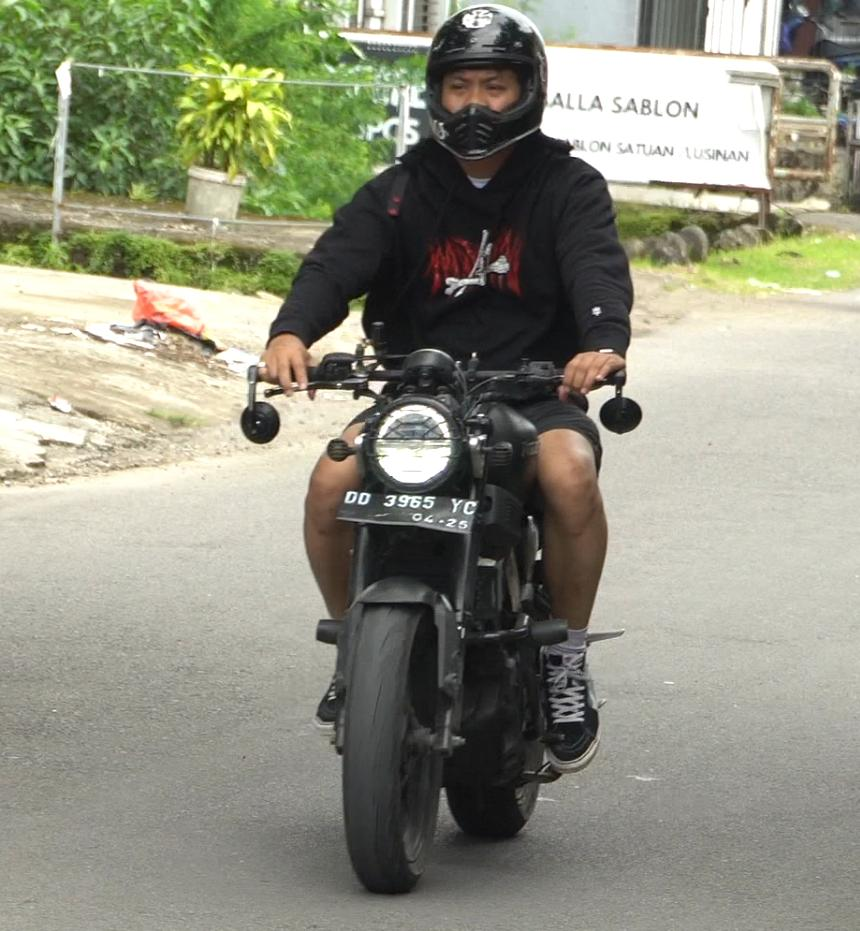number-plate: (335, 482, 478, 535)
